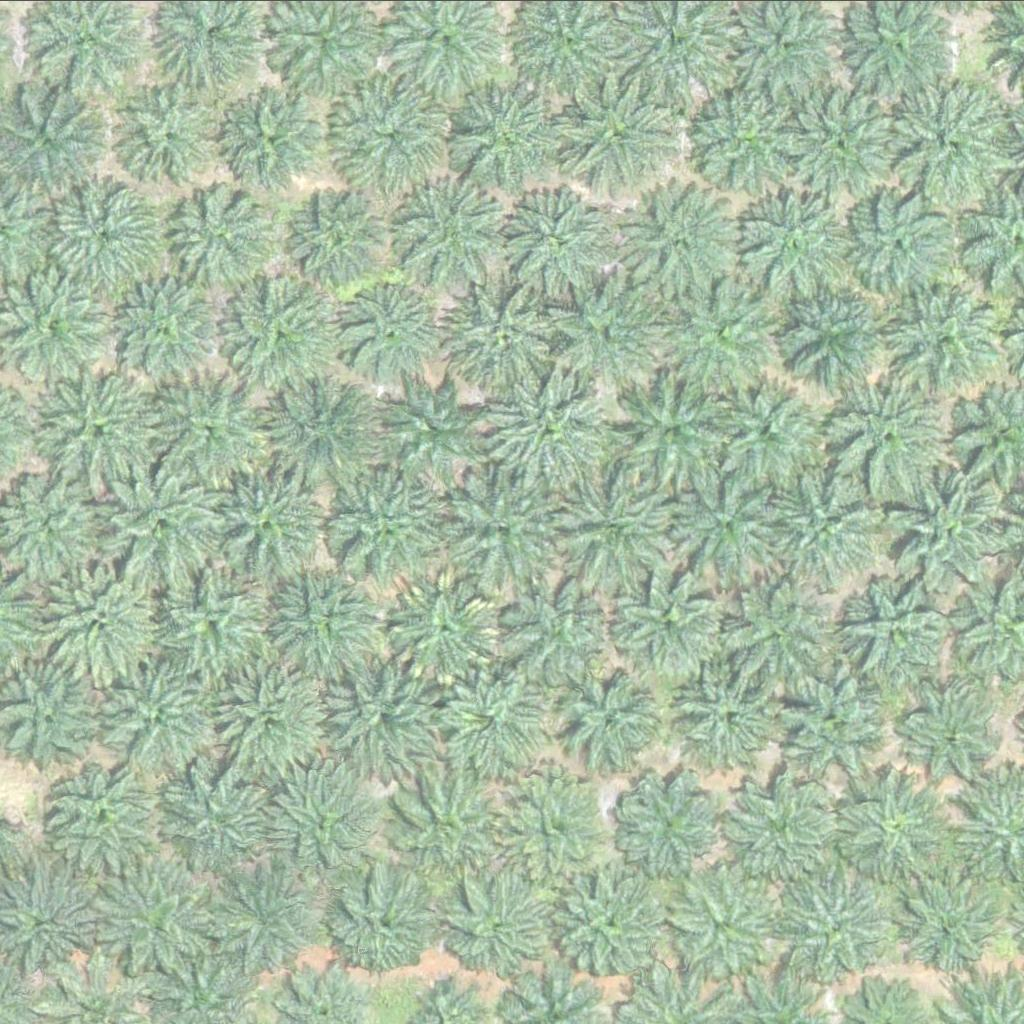Kelapa_Sawit: (45, 749, 171, 874), (45, 543, 171, 668), (327, 70, 453, 195), (449, 71, 575, 196), (561, 71, 687, 196), (103, 264, 229, 389), (440, 276, 566, 401), (551, 268, 677, 393), (486, 372, 612, 497), (256, 368, 382, 493), (149, 372, 275, 497), (41, 365, 167, 490), (99, 460, 225, 585), (202, 464, 328, 589), (321, 464, 447, 589), (441, 466, 567, 591), (556, 476, 682, 601), (91, 855, 217, 980), (664, 460, 790, 585), (758, 462, 884, 587), (893, 467, 1019, 592), (603, 370, 729, 495), (702, 366, 828, 491), (823, 370, 949, 495), (658, 278, 784, 403), (740, 184, 866, 309), (617, 181, 743, 306), (780, 74, 906, 199), (888, 75, 1014, 200), (43, 170, 168, 295), (686, 74, 811, 199), (157, 564, 271, 677), (265, 564, 379, 677), (890, 278, 1004, 391), (171, 181, 284, 294), (391, 769, 504, 882), (497, 775, 610, 888), (558, 863, 671, 976), (442, 873, 555, 986), (326, 863, 439, 976), (208, 858, 321, 971), (608, 765, 721, 878), (678, 657, 791, 770), (723, 770, 836, 883), (836, 770, 949, 883), (774, 672, 887, 785), (778, 275, 891, 388), (217, 662, 331, 774), (106, 658, 220, 770), (725, 579, 839, 691), (113, 78, 226, 190), (501, 190, 614, 302), (395, 174, 508, 286), (230, 277, 343, 389), (387, 571, 500, 683), (503, 572, 616, 684), (556, 665, 669, 777), (432, 665, 545, 777), (330, 658, 443, 770), (164, 766, 277, 878), (265, 767, 378, 879), (612, 564, 725, 676), (674, 866, 787, 978), (781, 870, 894, 982), (838, 577, 951, 689), (848, 186, 961, 298), (223, 90, 324, 190), (289, 186, 390, 286), (339, 281, 440, 381), (902, 874, 1003, 974), (902, 686, 1003, 786), (380, 379, 480, 479)
